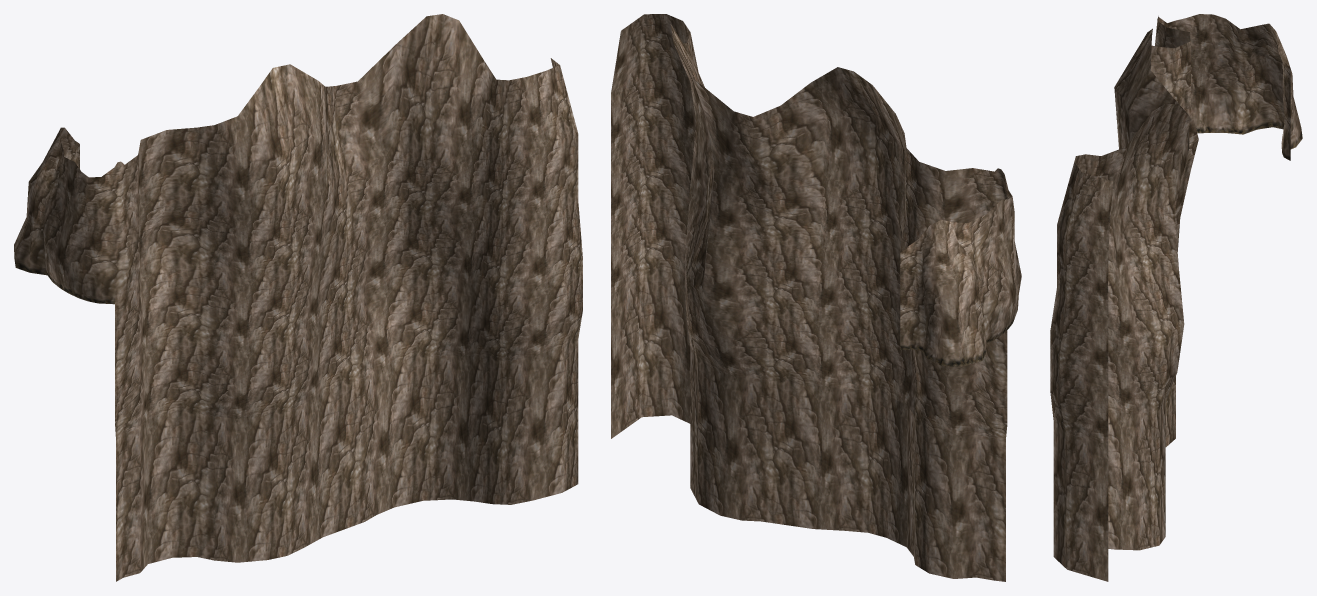
File: OVERHILL_A_01_MOUNTAIN_END_WALL.fbx
The picture shows the model from 3 angles, left to right: view 1: azimuth 30°, elevation 25°; view 2: azimuth 150°, elevation 25°; view 3: azimuth 270°, elevation 25°; orthographic projection. The views are drawn at different scales.
Parts seen in each view (by area): view 1: OVERHILL_A_01_MOUNTAIN_END_WALL; view 2: OVERHILL_A_01_MOUNTAIN_END_WALL; view 3: OVERHILL_A_01_MOUNTAIN_END_WALL.
Part boxes in pixels (box(x1,y1,x2,y2)): OVERHILL_A_01_MOUNTAIN_END_WALL: box(14, 14, 582, 581); OVERHILL_A_01_MOUNTAIN_END_WALL: box(611, 14, 1021, 581); OVERHILL_A_01_MOUNTAIN_END_WALL: box(1050, 14, 1302, 581).
Size of the model in its own units: 326858 by 326298 by 163516.
2 materials, 2 textured.
